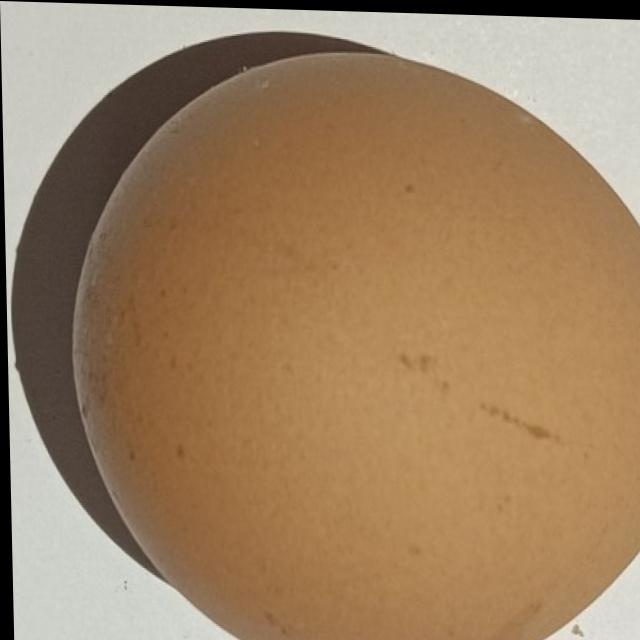fresh: (60, 31, 640, 640)
